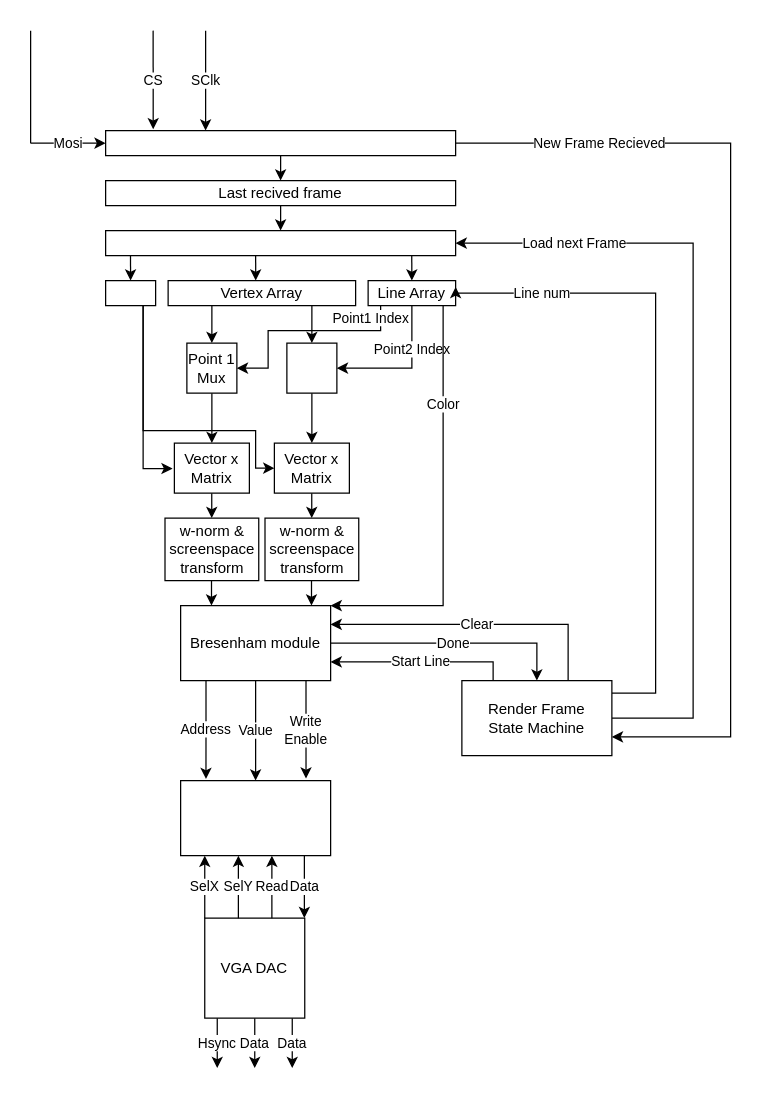
Image size: 763x1100. Some labels were removed from this diagram. The shapes that lost their labels are listed below. From the top down, each one's box as (x1, y1, x2, y2) in pixels, then its label:
(104, 129, 456, 156): SPI Shift register
(104, 229, 456, 256): Rendering Frame
(104, 279, 156, 306): MVP
(286, 342, 337, 393): Point 2 Mux
(179, 779, 331, 856): FB
